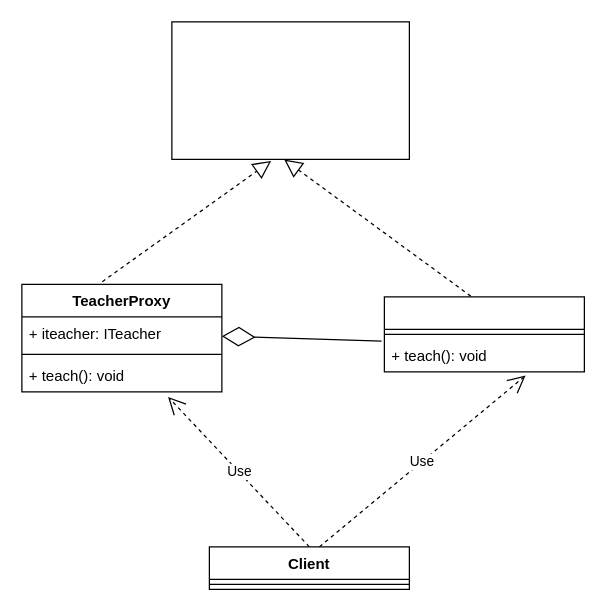
The diagram is 606 pixels wide and 611 high, and some of its shapes have lost their labels. The shapes that lost their labels are listed below. From the top down, each one's box as (x1, y1, x2, y2) in pixels, then its label:
(171, 21, 409, 159): <<Interface>> ITeacher + teach(): void
(383, 296, 584, 372): TeacherTarget
